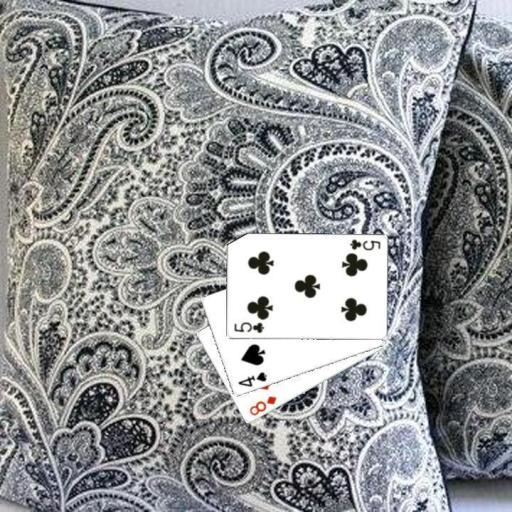card-corner: (246, 394, 278, 418), (235, 369, 268, 388), (346, 236, 381, 253), (230, 320, 266, 334)
